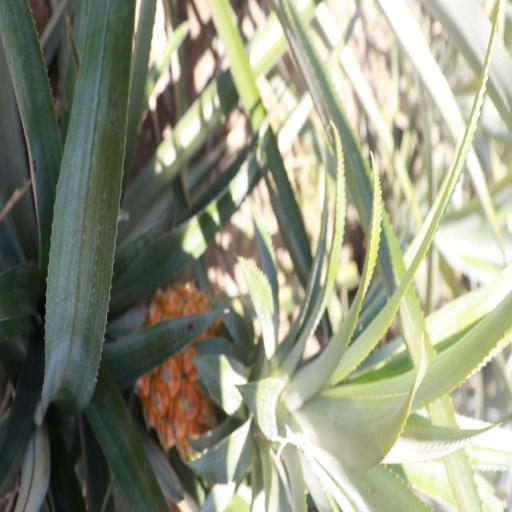Pineapple - v8 v1: (140, 284, 416, 476)
